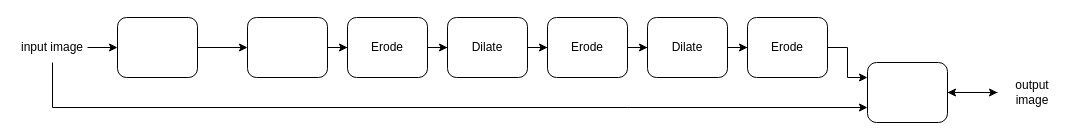
The diagram is 1084 pixels wide and 140 high, and some of its shapes have lost their labels. Each missing label, with the centre of its shape:
"Adaptive Thresholding" belongs at (287,47).
"Bitmasking (AND)" belongs at (907,92).
"gaussian blur" belongs at (157,47).
